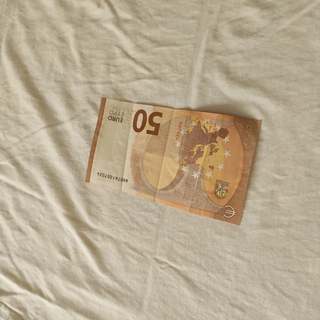50EUROBack: (83, 95, 262, 226)
